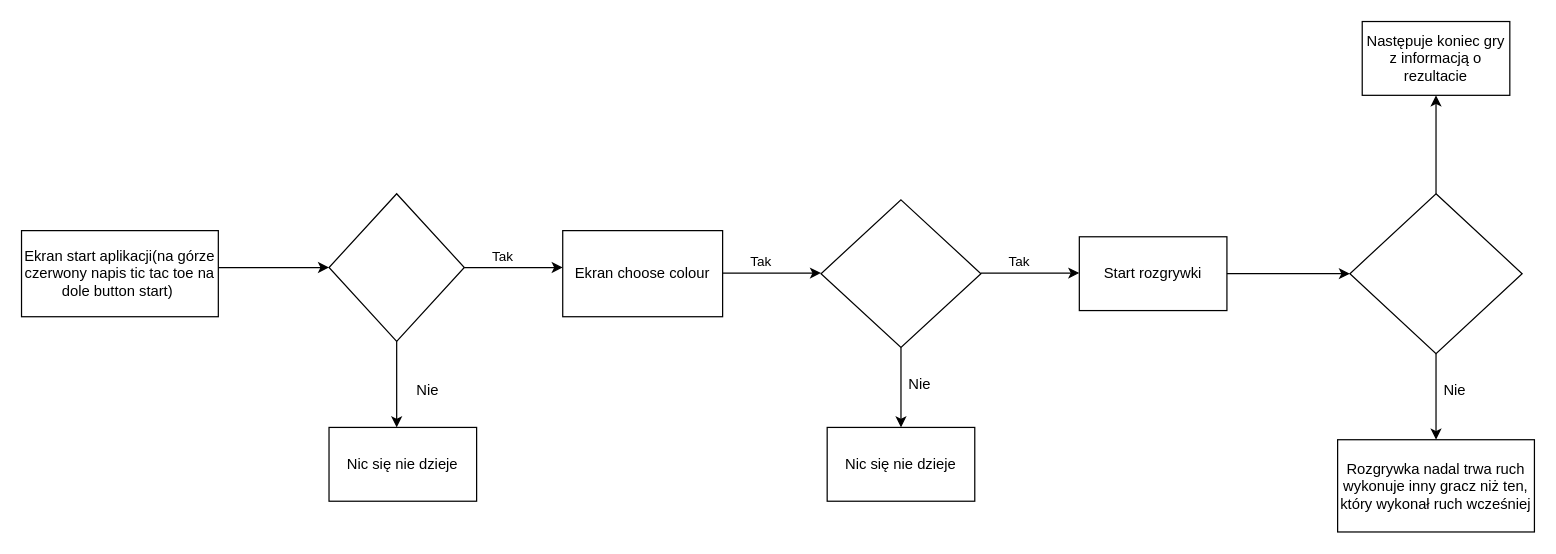
This 1556x554 diagram has some shape labels left out. Here are the shapes that lost their labels. From the top down, the box of each, then its label:
(328, 192, 464, 341): Czy naciśnięto przycisk start?
(820, 199, 981, 347): Czy wybrano kolor?
(1349, 192, 1522, 354): Czy został wyłoniony zwycięzca lub nie ma już wolngo pola gry?
